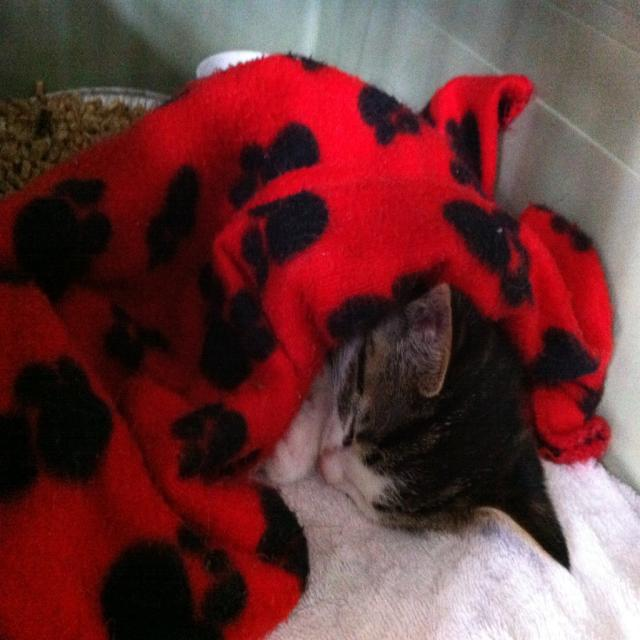Cat: (263, 282, 571, 570)
